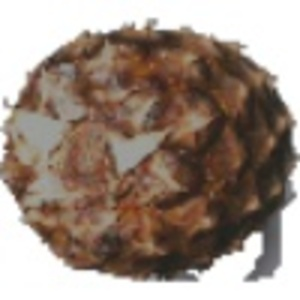abacaxi: (4, 16, 292, 275)
